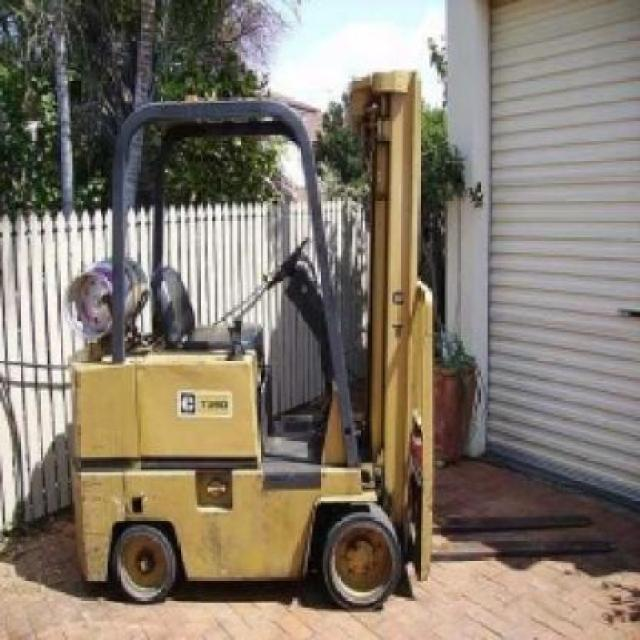forklift: (70, 67, 435, 618)
